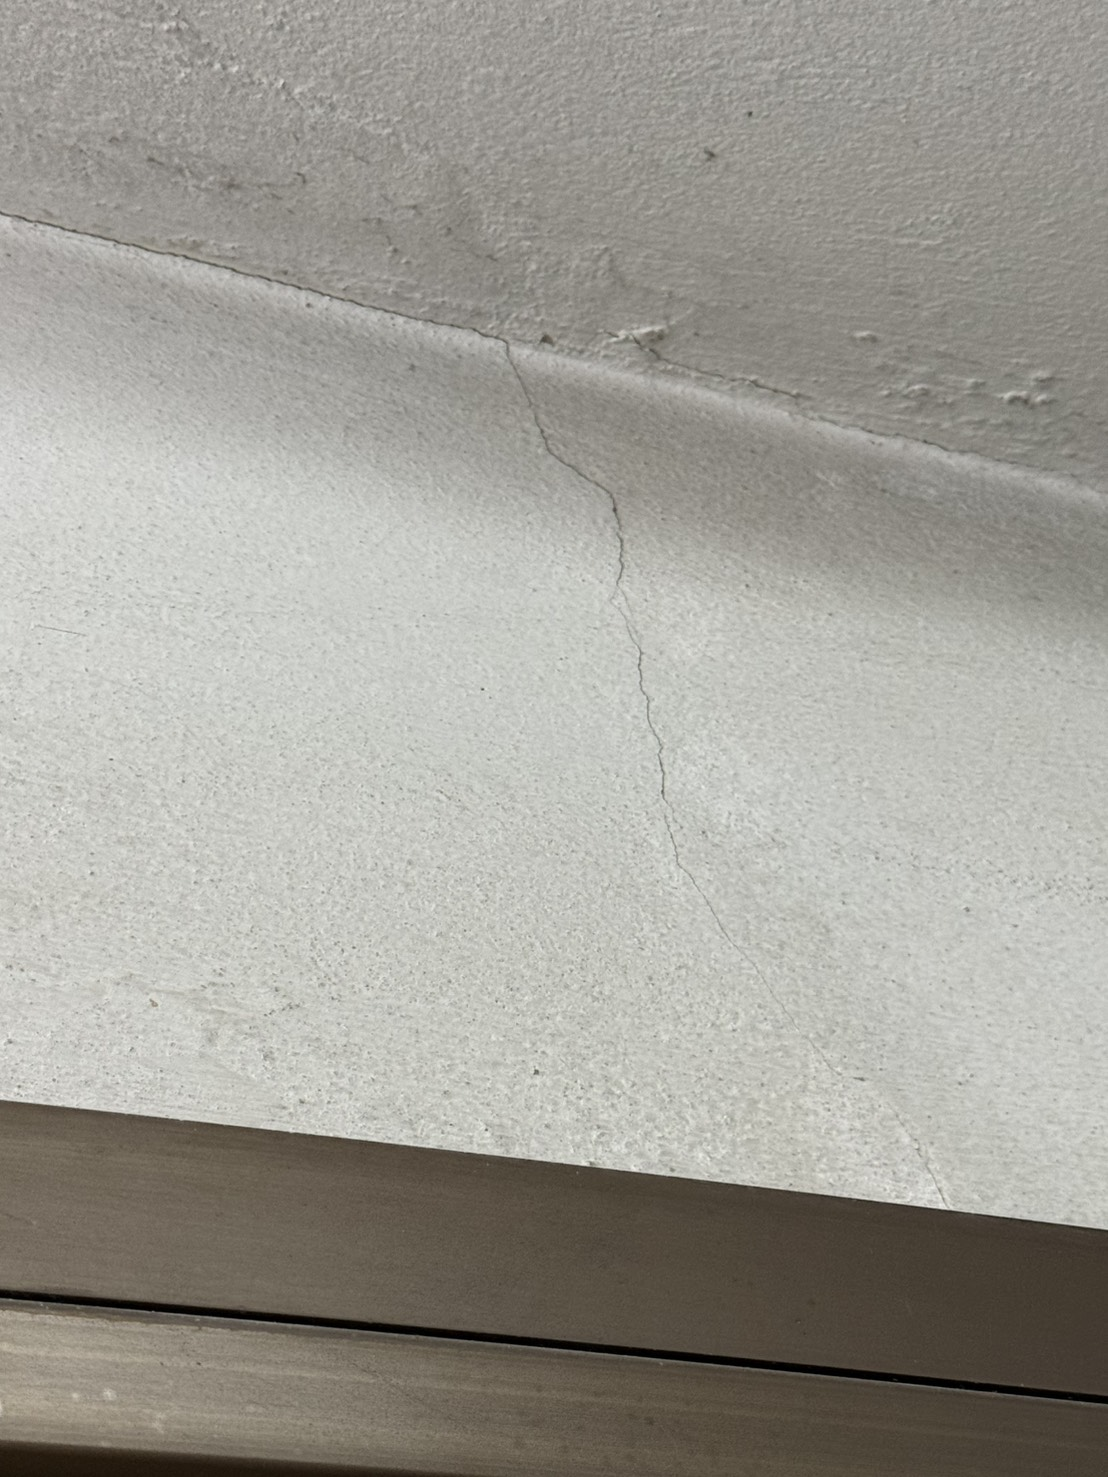Low: (483, 335, 995, 1219)
